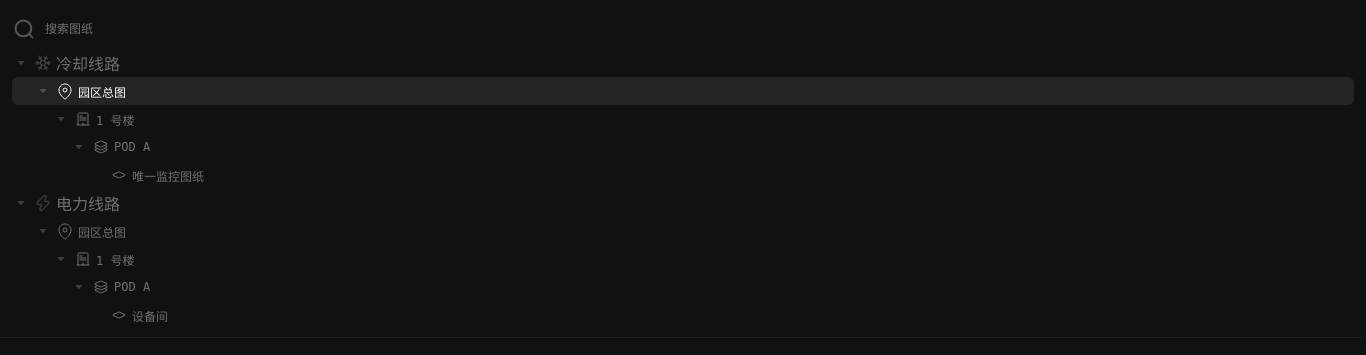
Test: HierarchyPanel › filters the read-only monitoring tree while preserving matching ancestors
The image size is (1366, 355).
Type "唯一监控" into the search field named "搜索监控图纸" at point(683, 28), box [12,16,1354,40]
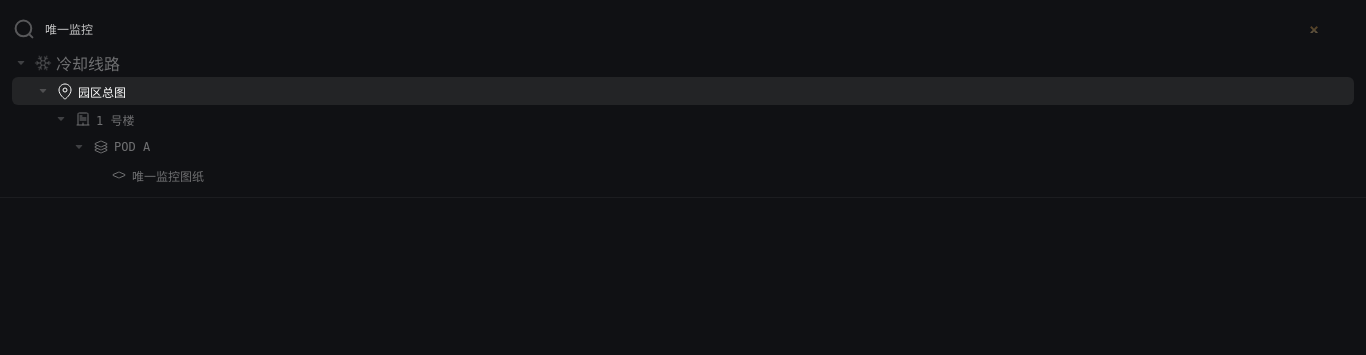
Expected: the text "唯一监控图纸" is shown, [132,170,204,184]
Replace the text in the search field named "搜索监控图纸" with "不存在的图纸" at point(683, 28), box [12,16,1354,40]
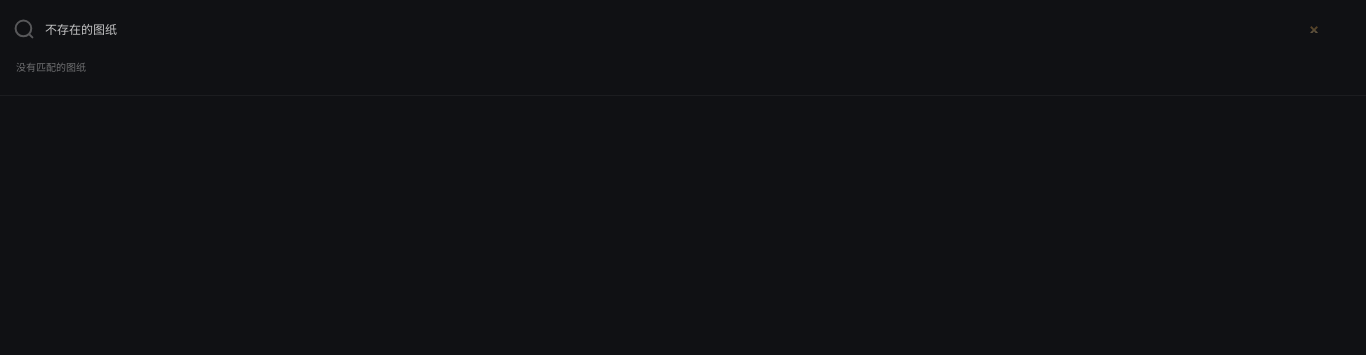
Now the text "没有匹配的图纸" is shown, box [16,62,86,73]
